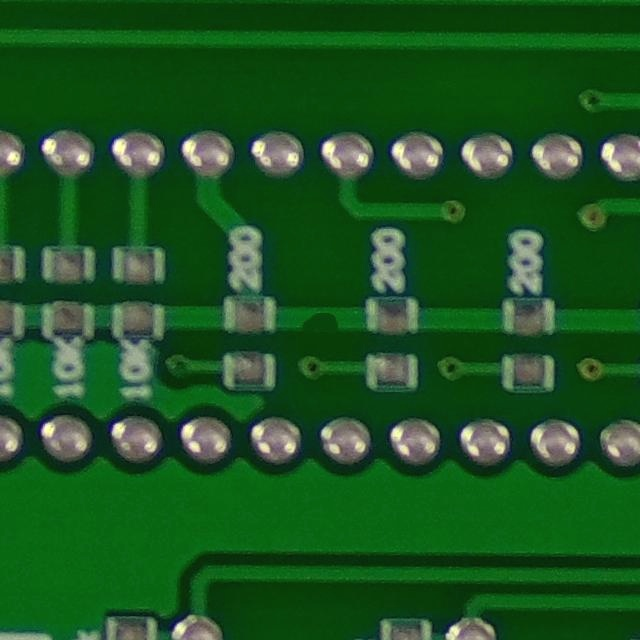mouse_bite: (290, 298, 351, 343)
